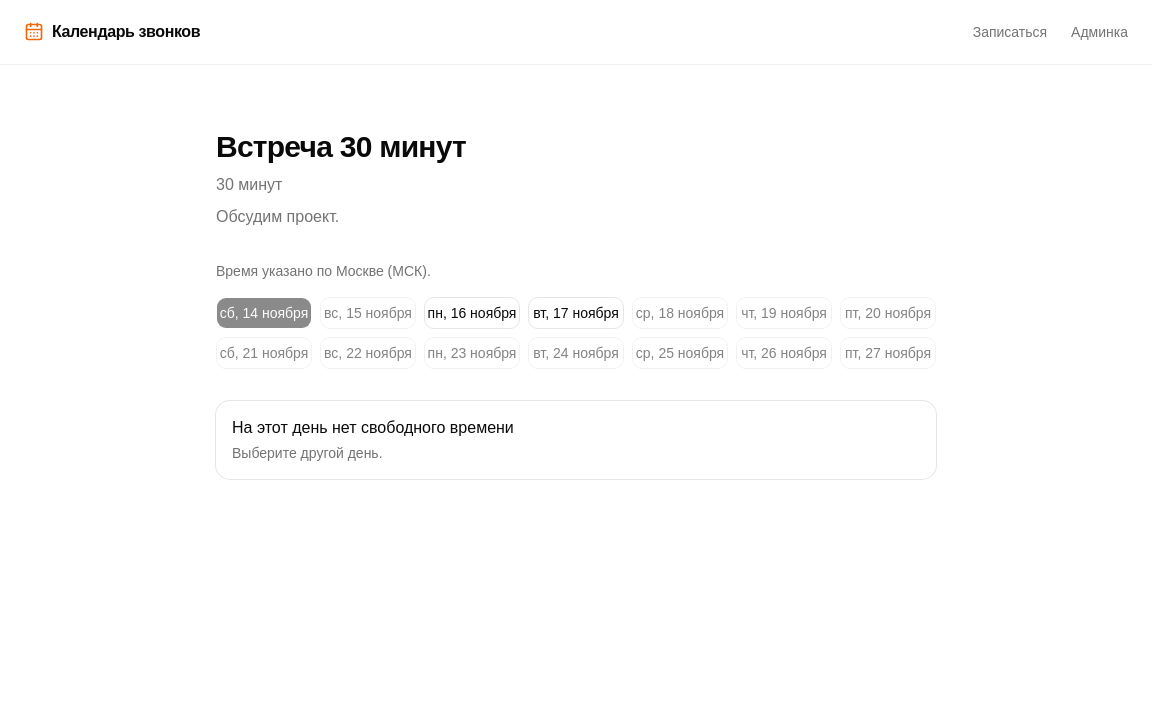
Scenario: BookingPage › reveals the guest form after the first slot selection
Expected: the field labelled "Имя" is not shown
Click the button "пн, 16 ноября" at (472, 313), box [424, 297, 520, 329]
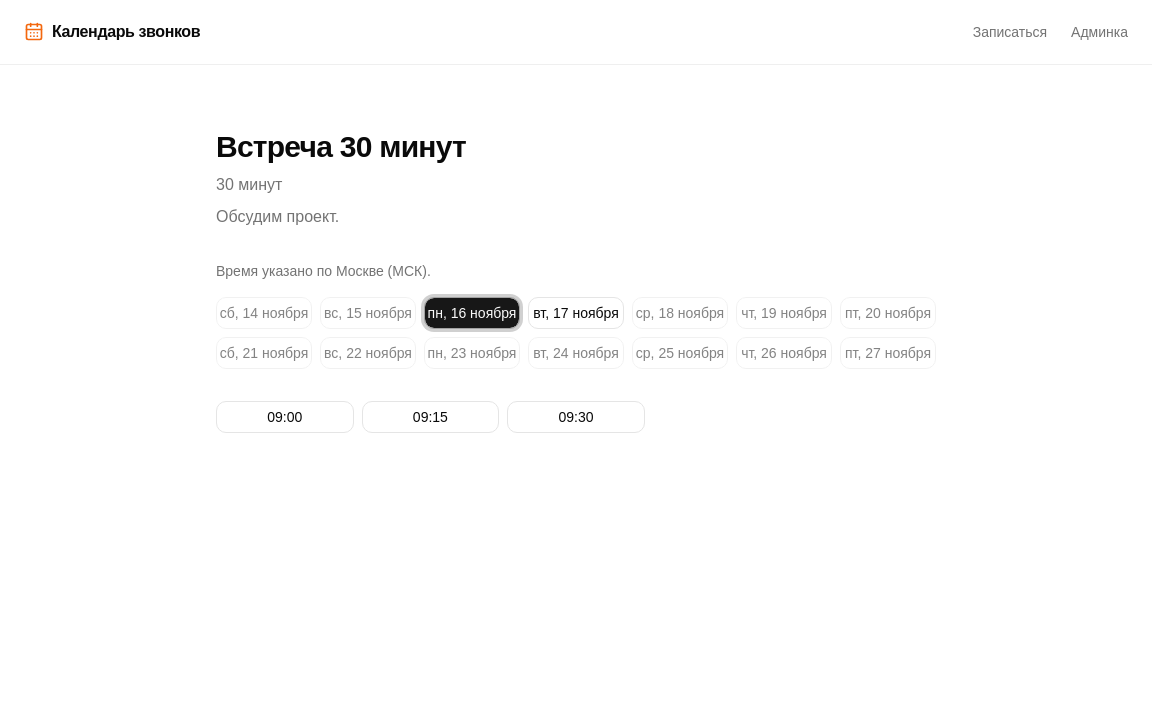
Click the button "09:00" at (285, 417), box [216, 401, 354, 433]
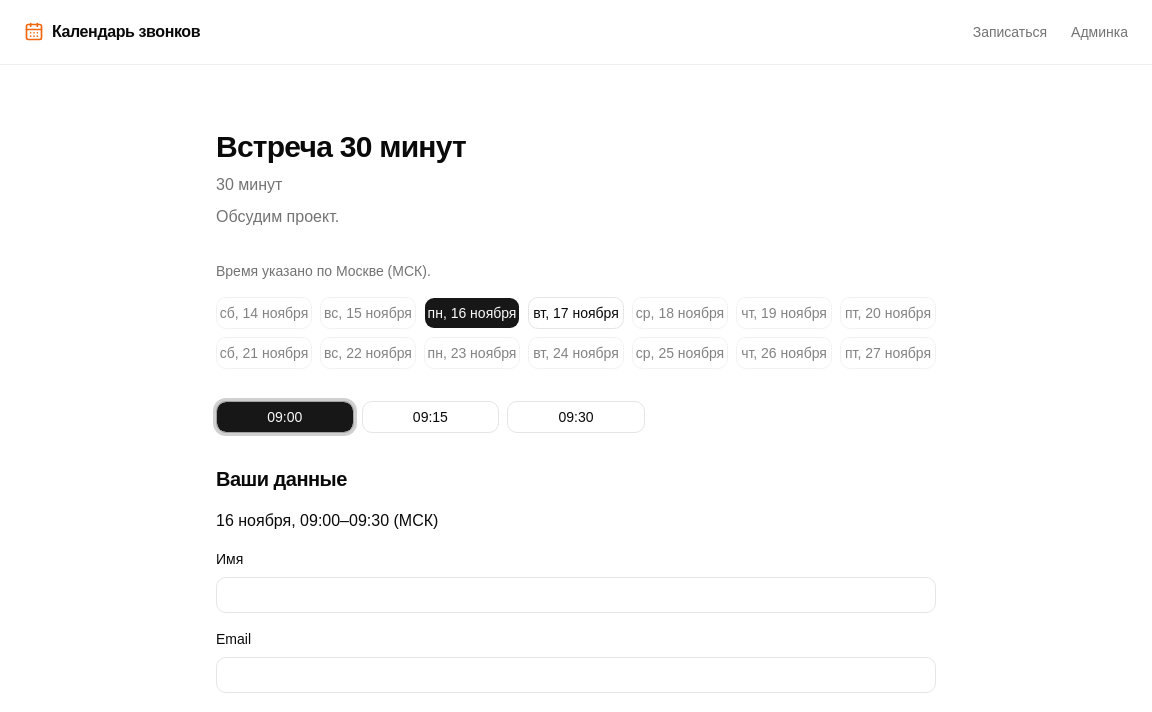
Expected: the field labelled "Имя" is shown, [216, 577, 936, 613]
Expected: the field labelled "Email" is shown, [216, 657, 936, 693]
Expected: the text "16 ноября, 09:00–09:30 (МСК)" is shown, [216, 512, 438, 529]
